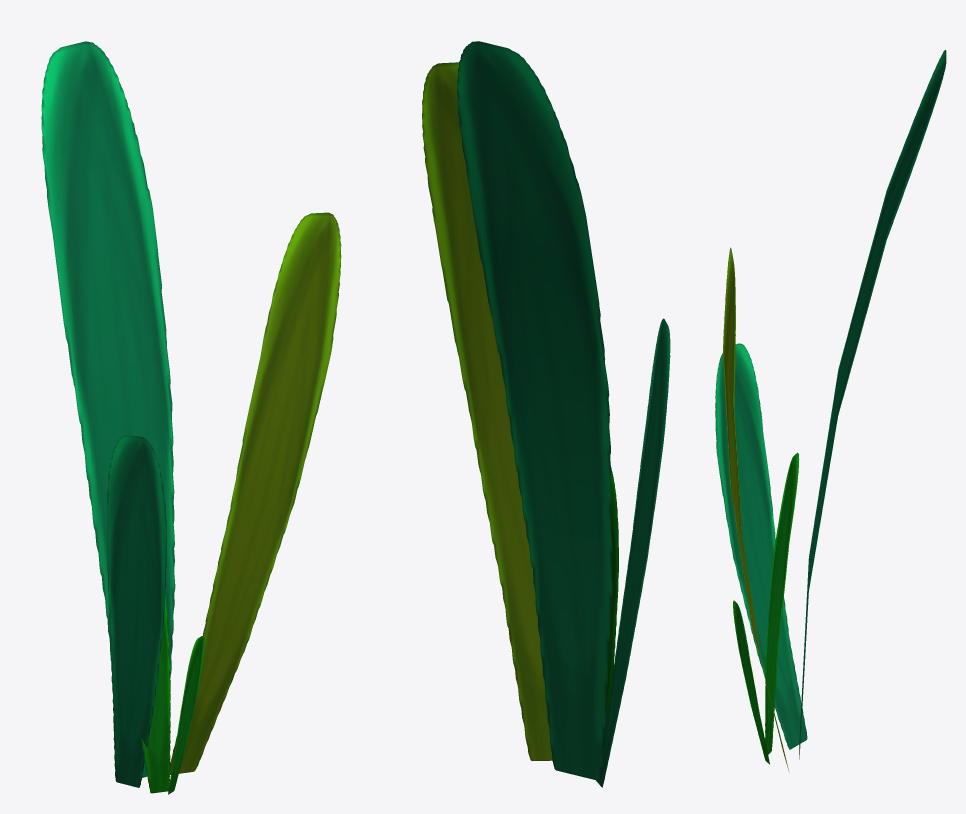
Rendered from 12_Malla_Arbusto_Triple.fbx.
The picture shows the model from 3 angles, left to right: view 1: azimuth 30°, elevation 25°; view 2: azimuth 150°, elevation 25°; view 3: azimuth 270°, elevation 25°; orthographic projection. The views are drawn at different scales.
Parts seen in each view (by area): view 1: Arbustos_Varios2; view 2: Arbustos_Varios2; view 3: Arbustos_Varios2.
Part boxes in pixels (<box>): Arbustos_Varios2: <box>41,41,341,794</box>; Arbustos_Varios2: <box>422,41,670,787</box>; Arbustos_Varios2: <box>715,50,946,770</box>.
Size of the model in its own units: 35.4 by 94.34 by 29.24.
